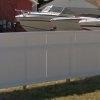Boat: (11, 3, 92, 30)
